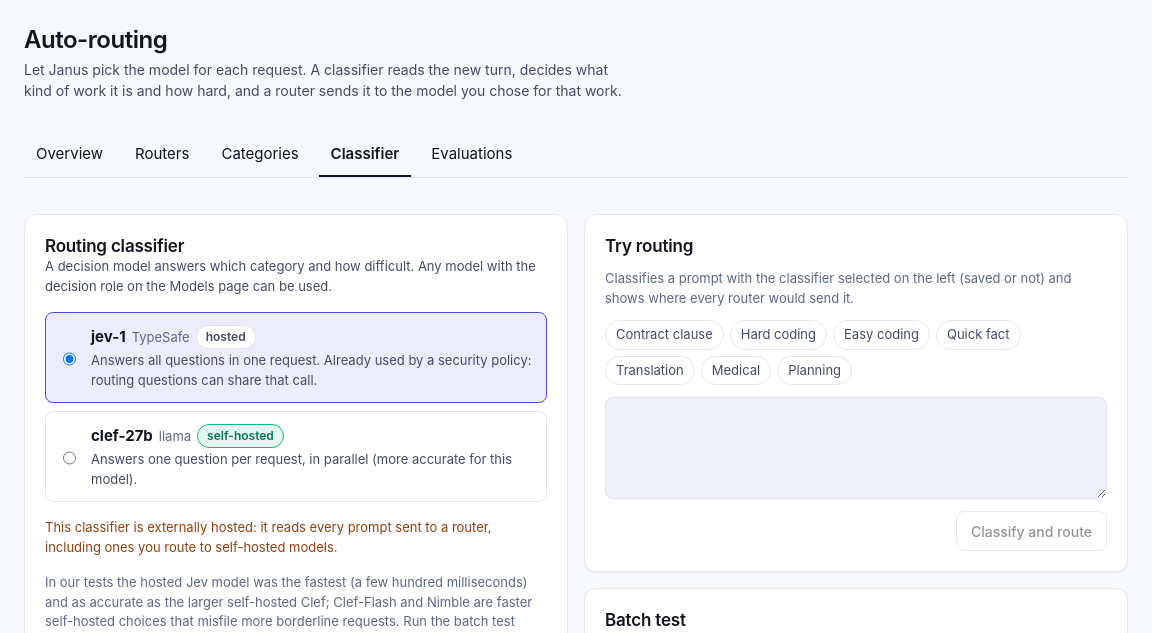
Test: Classifier › compares an unsaved classifier choice in Try routing
The width and height of the screenshot is (1152, 633).
Click the radio button labelled "clef-27b" at (70,458), box [63,427,76,489]
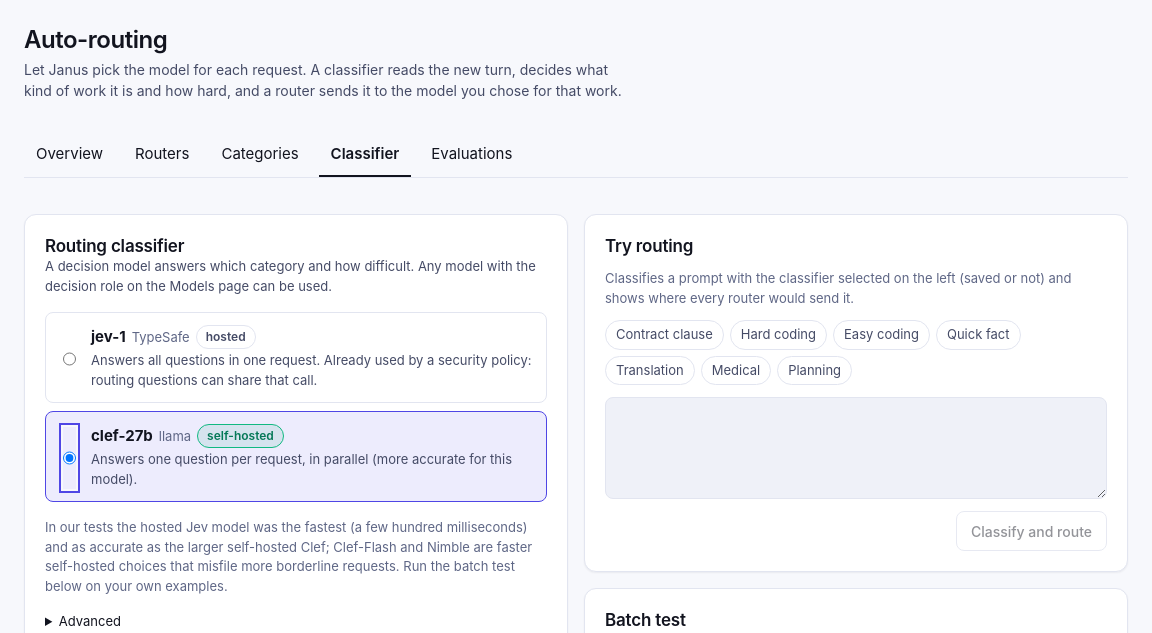
Type "write a lock-free queue" into the text box named "Prompt to classify" at (856,448), box [605,397,1107,499]
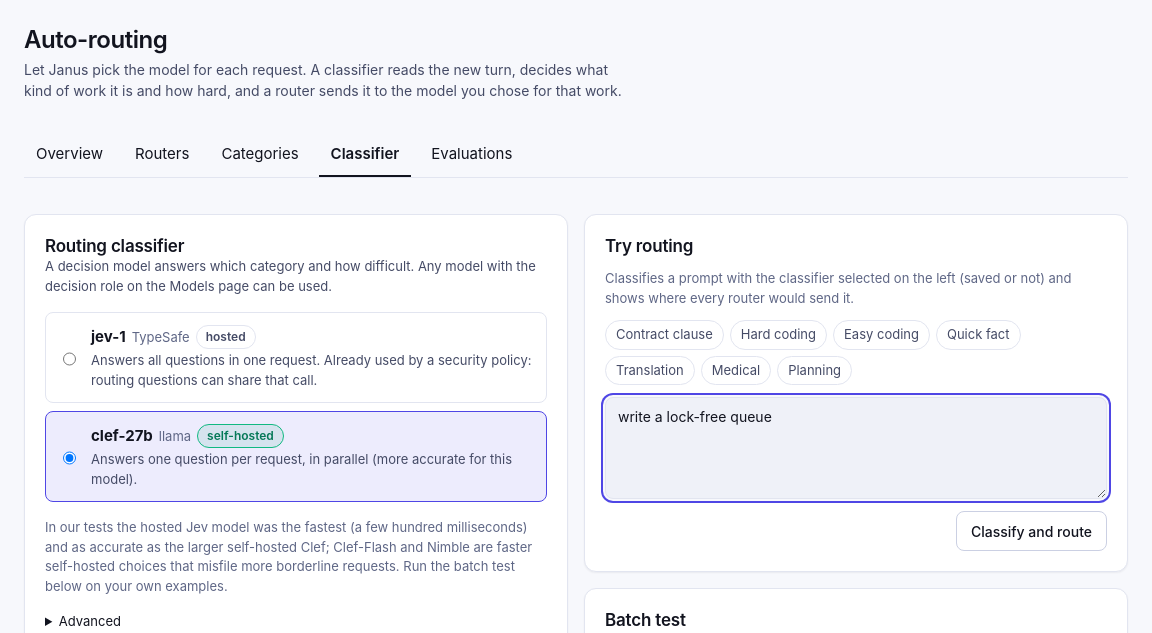
Click the button "Classify and route" at (1031,531), box [956,511,1107,551]
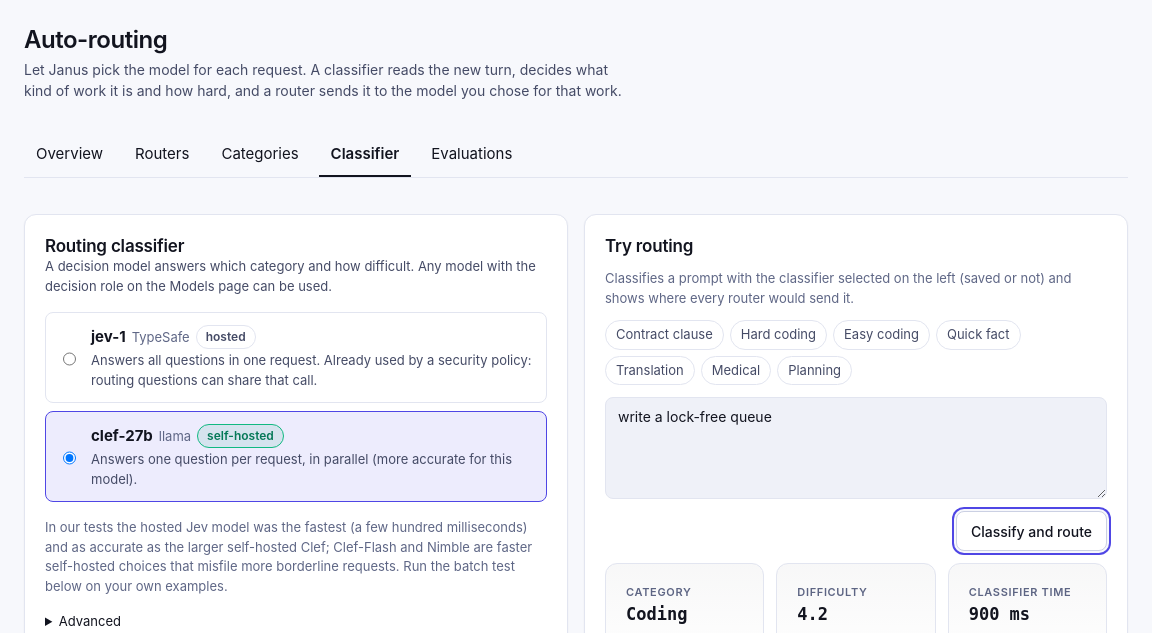
Result: the text "4.2" is shown at [797,604,828,624]
